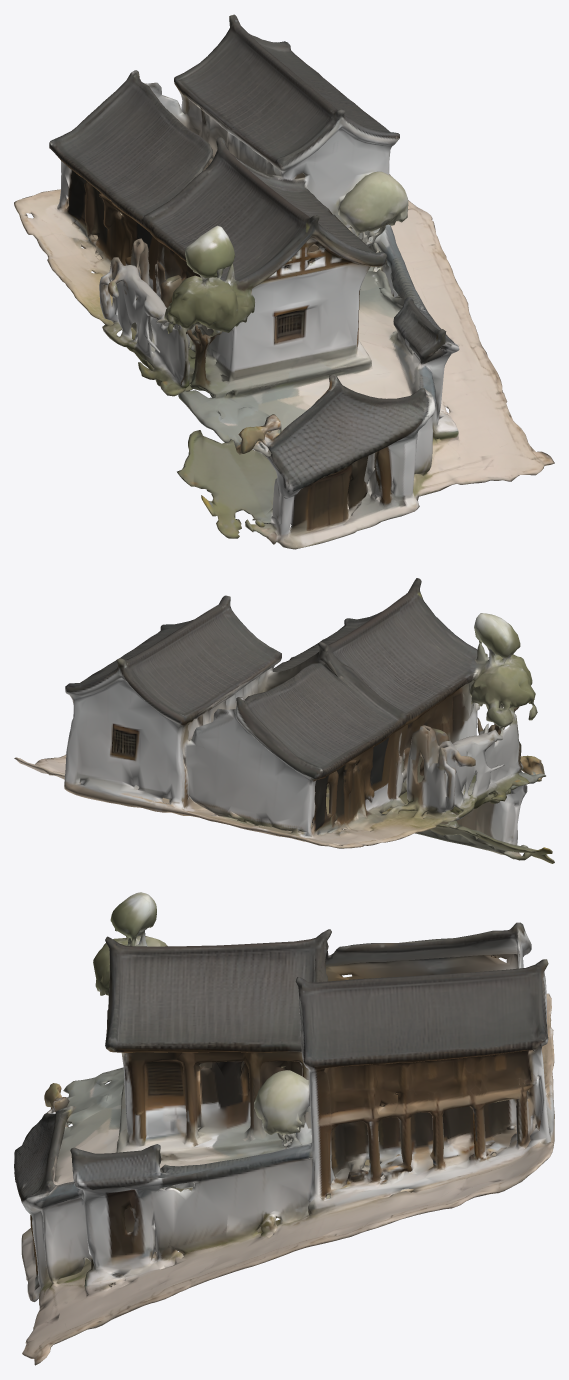
3 views of the same model, one above another, from view 1: azimuth 30°, elevation 25°; view 2: azimuth 150°, elevation 25°; view 3: azimuth 270°, elevation 25° (orthographic). The views are drawn at different scales.
Visible parts, largest first — view 1: material.001; view 2: material.001; view 3: material.001.
Part boxes in pixels (x1,y1,x2,y2): material.001: (14,14,554,549); material.001: (14,578,554,863); material.001: (14,892,554,1365).
Bounding box in the file's own units: 0.7726 × 0.6602 × 0.8713.
Materials: 1 (1 with a texture image).
